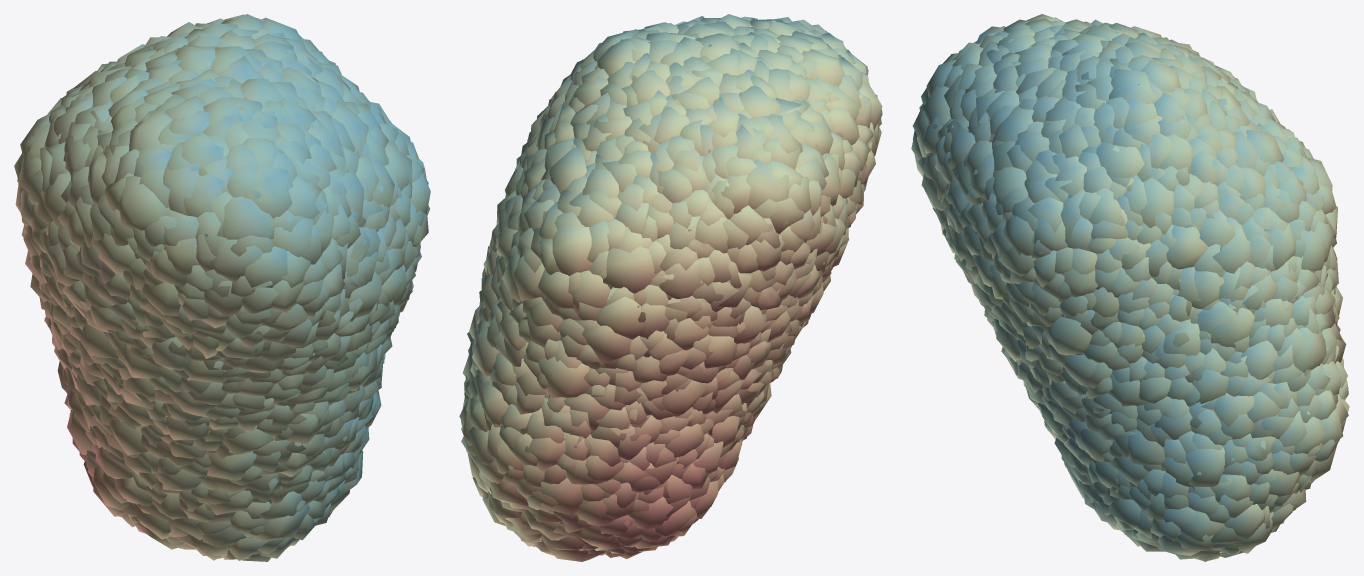
The model's file is HIV_200_cleaned_draco.glb.
3 renders of one model, left to right at view 1: azimuth 30°, elevation 25°; view 2: azimuth 150°, elevation 25°; view 3: azimuth 270°, elevation 25°, orthographic. The views are drawn at different scales.
Visible parts, largest first — view 1: HIV; view 2: HIV; view 3: HIV.
Part boxes in pixels (x1,y1,x2,y2): HIV: (14, 14, 430, 561); HIV: (459, 14, 882, 561); HIV: (911, 14, 1349, 561).
Bounding box in the file's own units: 730 × 1086 × 888.
